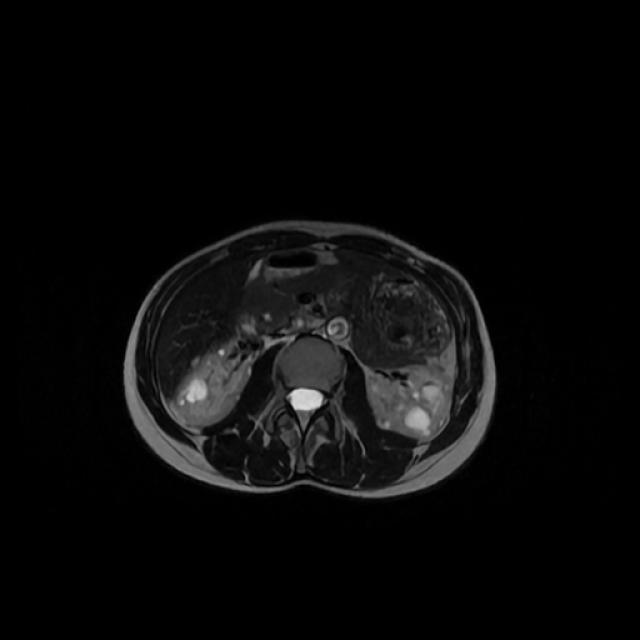sag: (177, 352, 246, 428)
sol: (367, 366, 451, 440)
